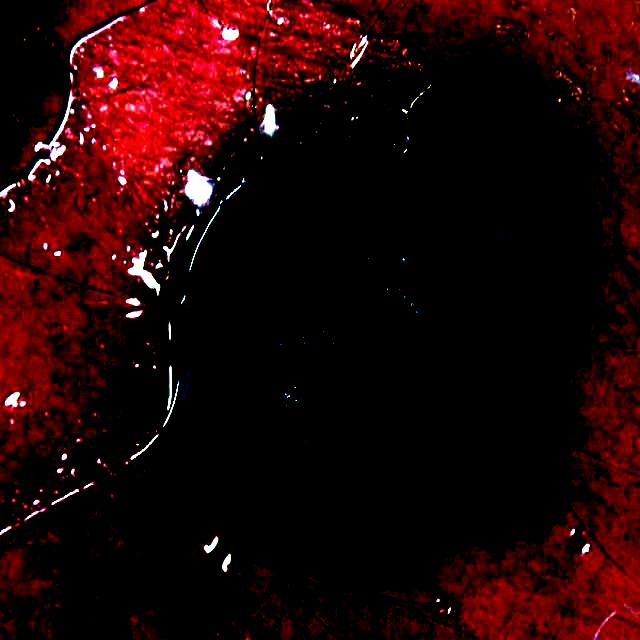MEL: (190, 78, 573, 567)
